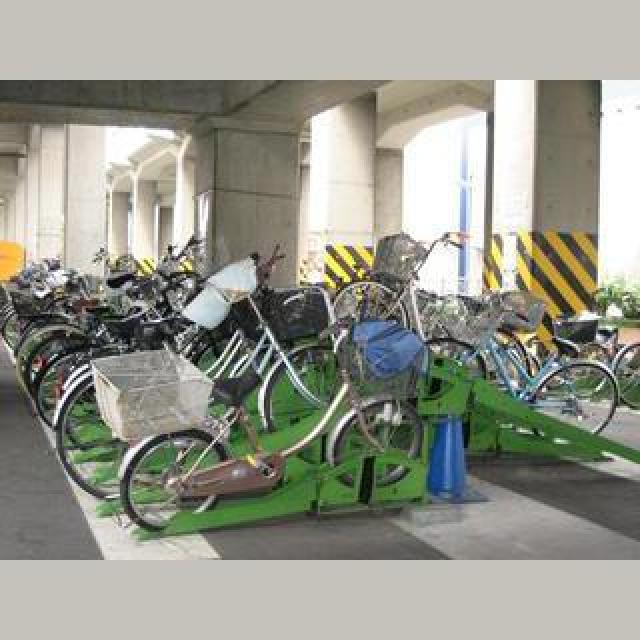Person: (104, 276, 434, 544), (58, 248, 352, 502), (454, 290, 622, 436)
